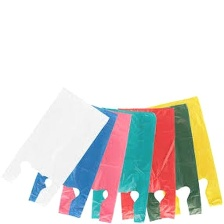plastic_bag: (0, 83, 113, 210), (20, 100, 120, 219), (145, 95, 224, 219), (53, 105, 135, 223), (133, 102, 205, 224), (89, 103, 159, 224), (112, 103, 179, 223)
